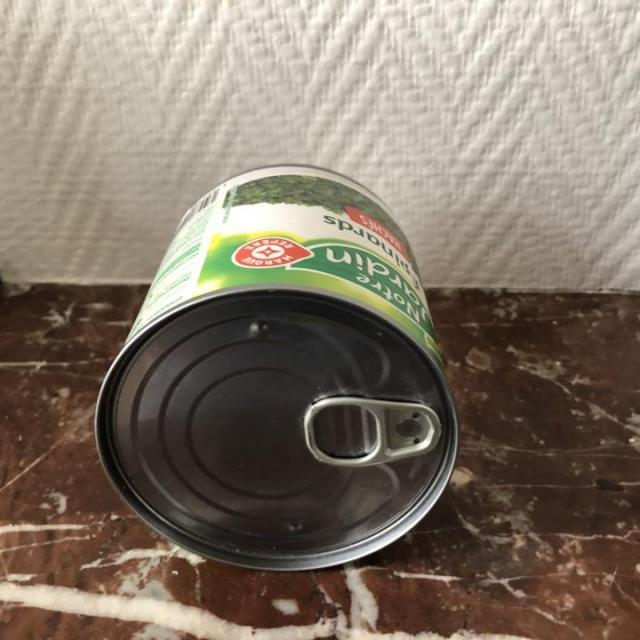metal-can: (94, 162, 464, 575)
